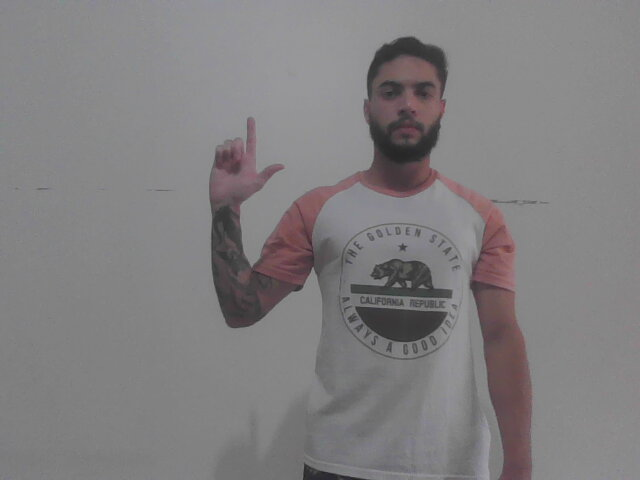l: (201, 111, 289, 216)
